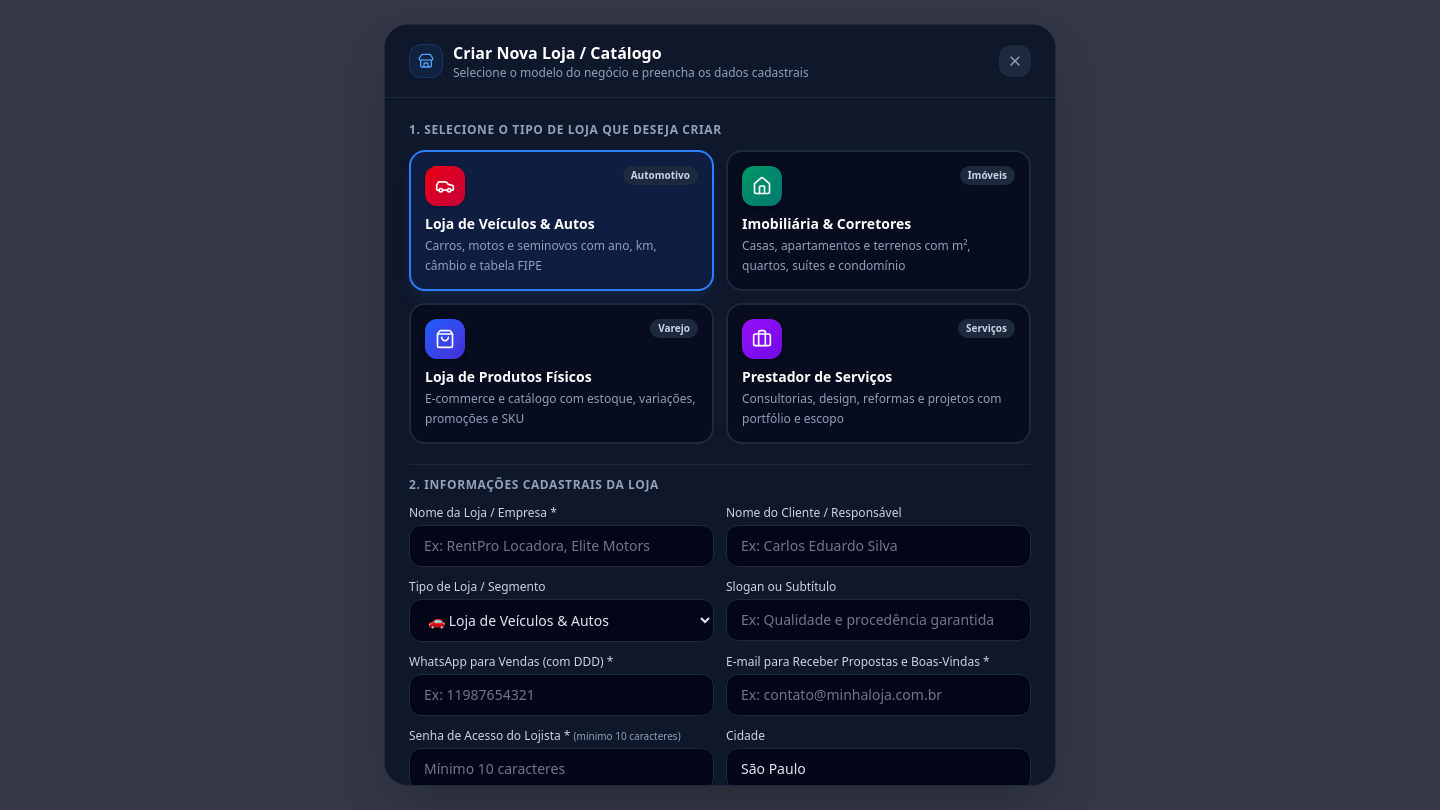
StoreCreatorModal - Tratamento de Erros e Usabilidade › Componente StoreCreatorModal - Exibição, Scroll e Foco de Erro › mapeia erro 503 para "Serviço temporariamente indisponível. Tente novamente em instantes."
Type "Auto Peças Modelo" into the field with placeholder "Ex: RentPro Locadora, Elite Motors".
click(562, 546); type("Auto Peças Modelo")  # box [409,525,714,567]
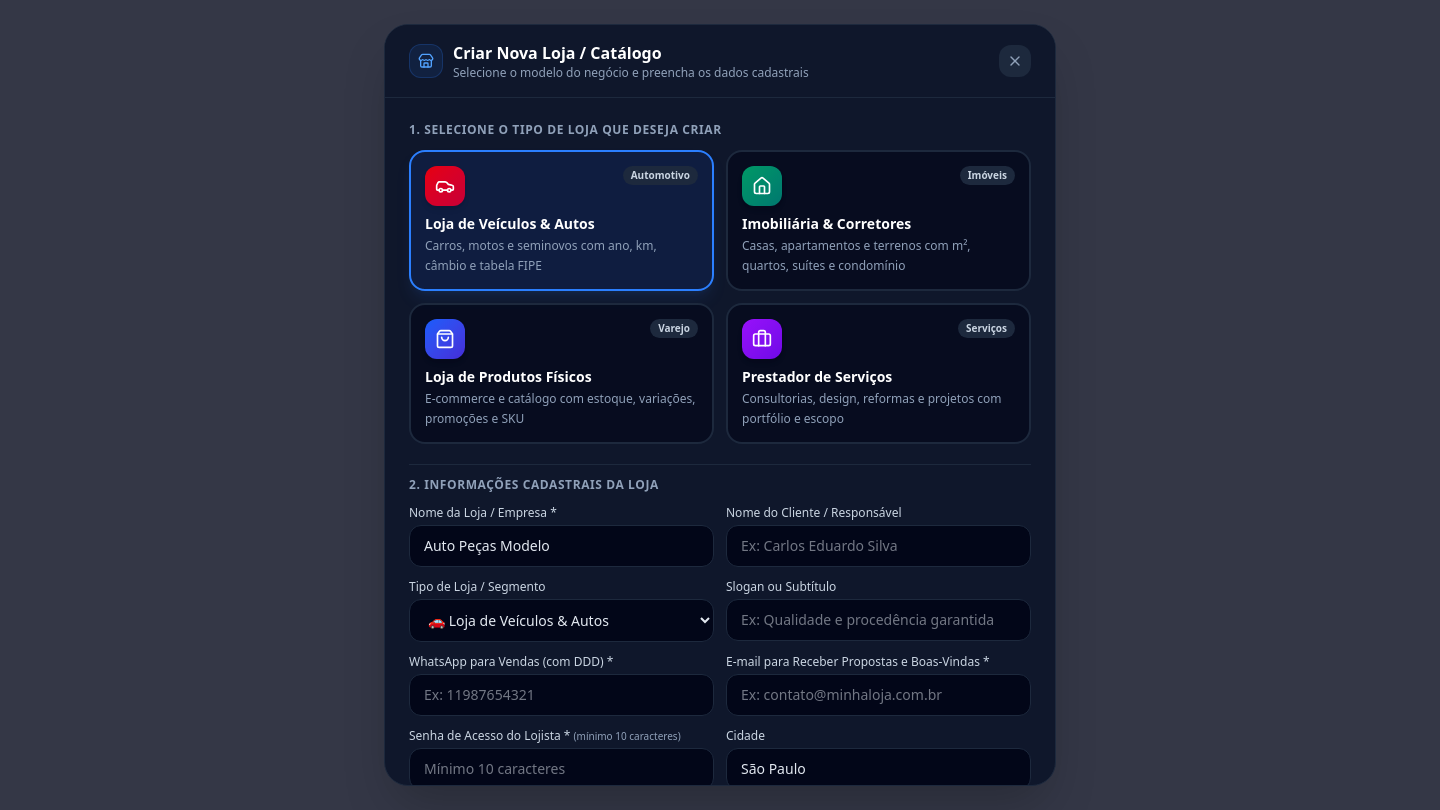
Type "11988887777" into the field with placeholder "Ex: 11987654321".
click(562, 695); type("11988887777")  # box [409,674,714,716]
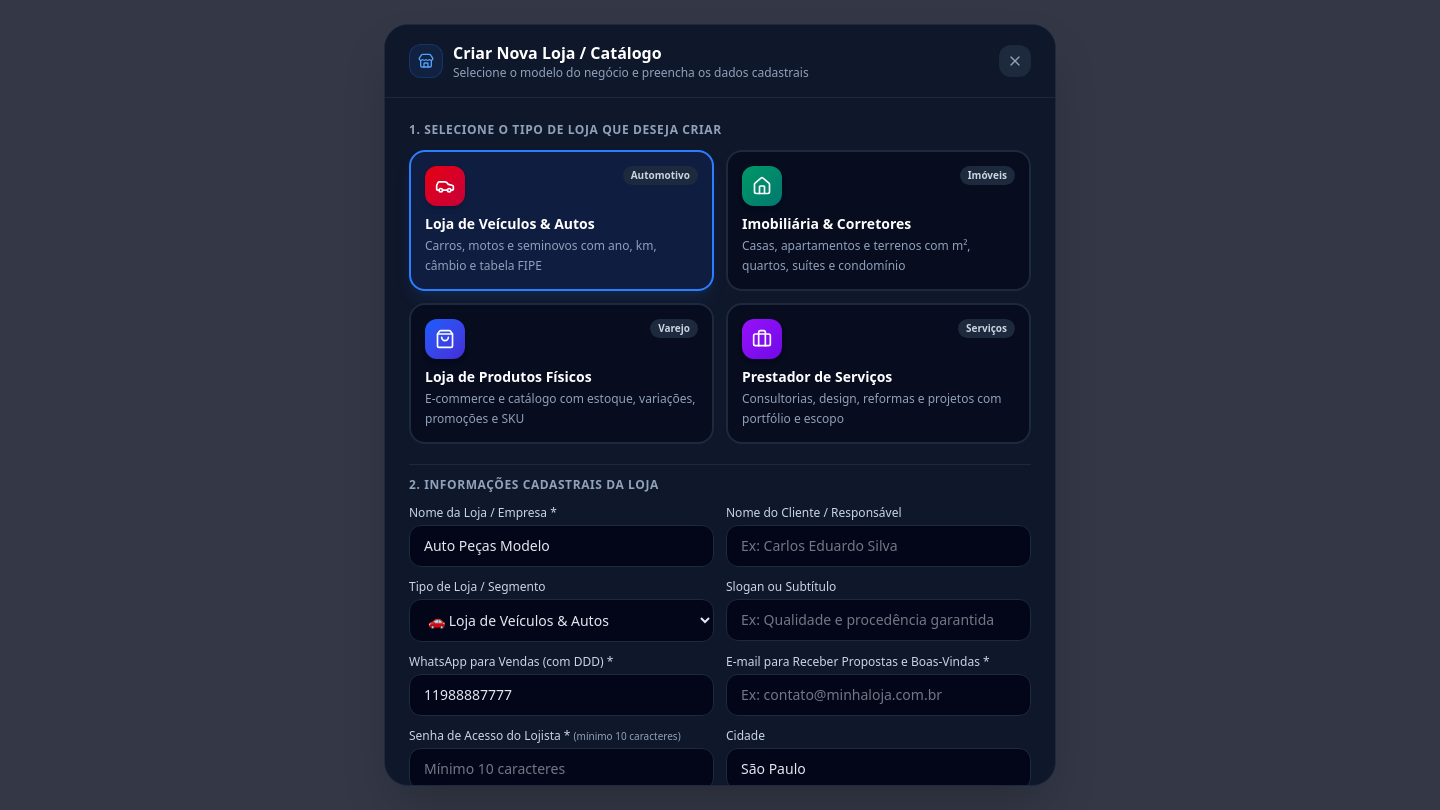
Type "contato@modelo.com" into the field with placeholder "Ex: contato@minhaloja.com.br".
click(878, 695); type("contato@modelo.com")  # box [726,674,1031,716]
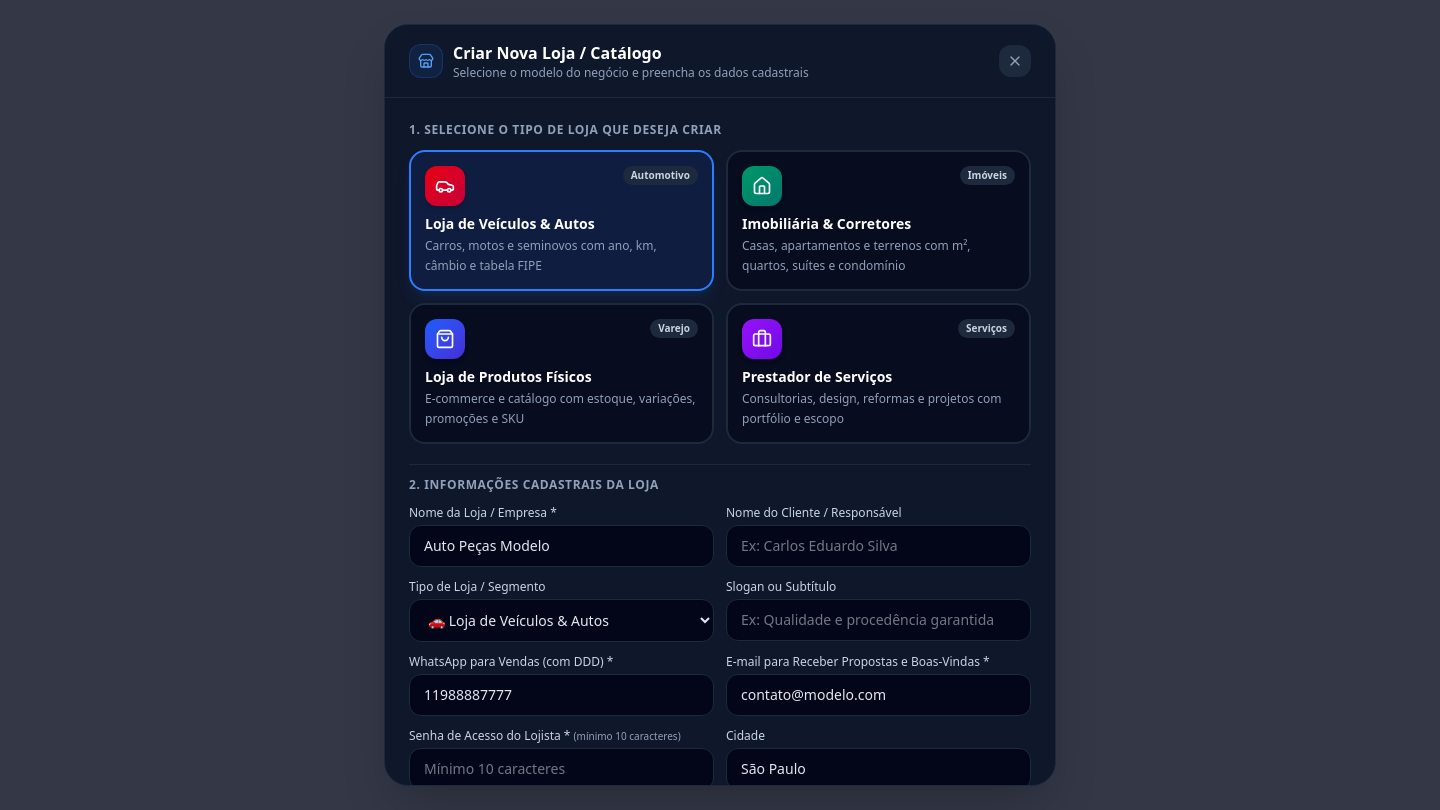
Type "SenhaSegura123!" into the password field with placeholder "Mínimo 10 caracteres".
click(562, 769); type("SenhaSegura123!")  # box [409,748,714,790]
(page scrolled)
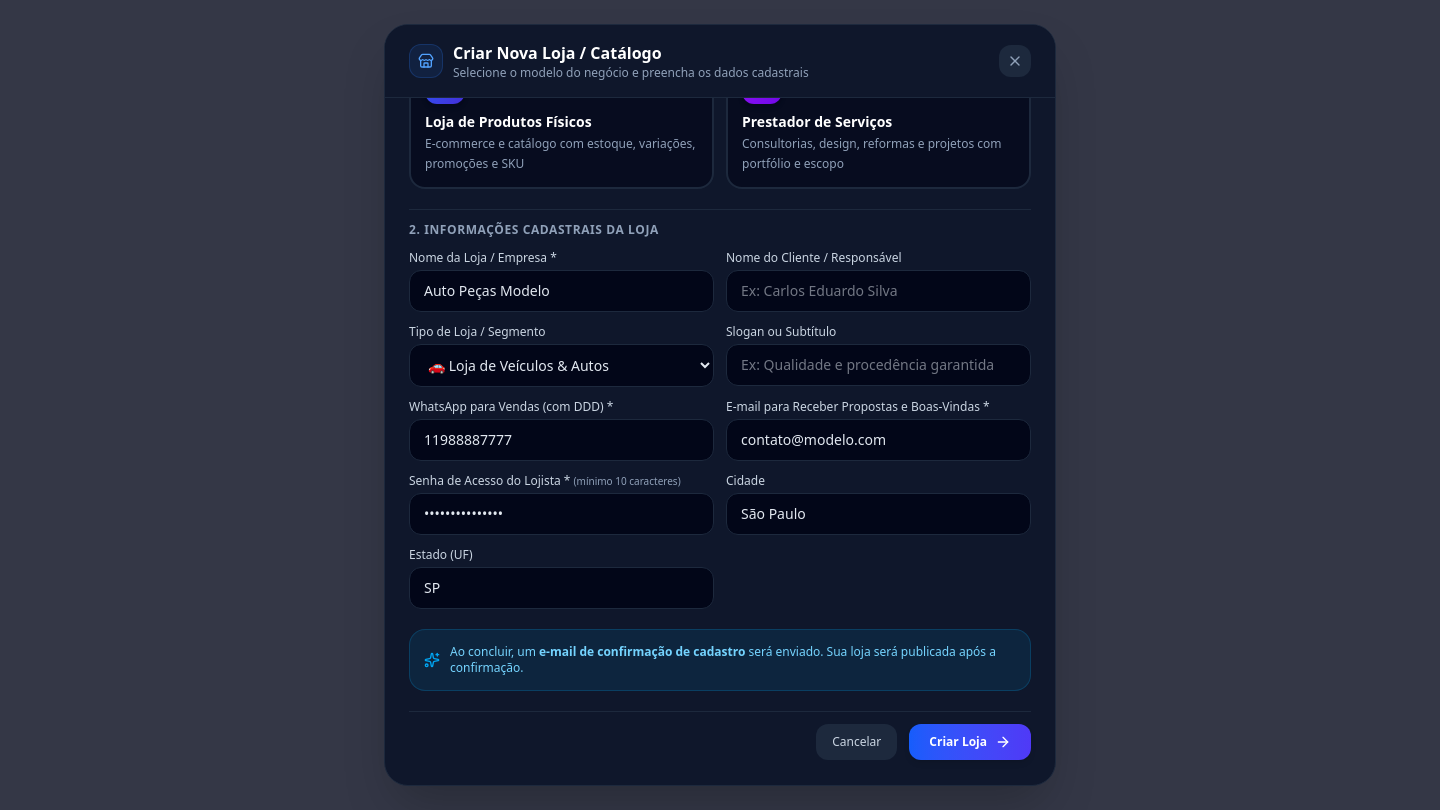
Click the button "Criar Loja".
click(970, 742)  # box [909,724,1031,760]
(page scrolled)
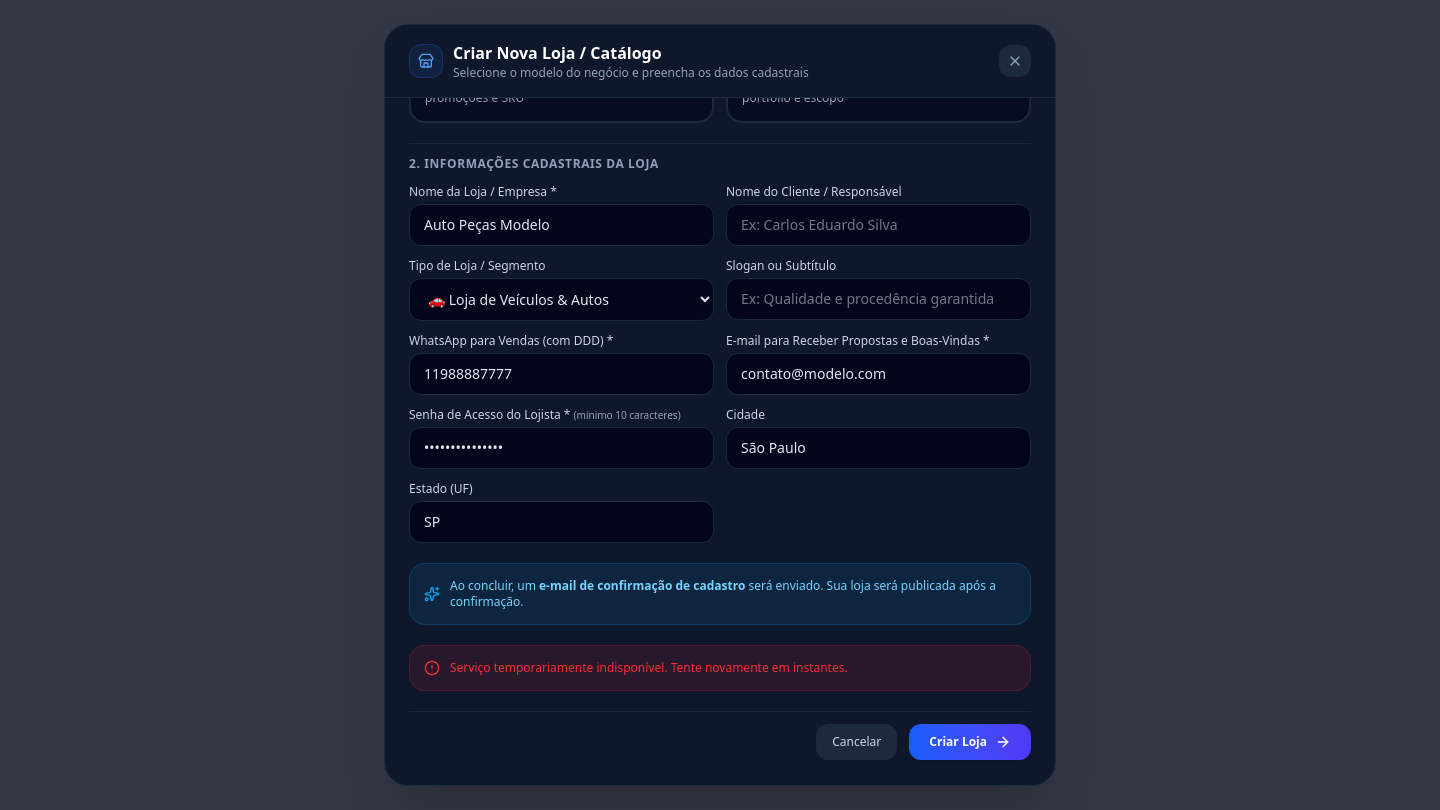
Check: the message with test id "bottom-error-message" reads "Serviço temporariamente indisponível. Tente novamente em instantes.", box [450,659,848,676]
